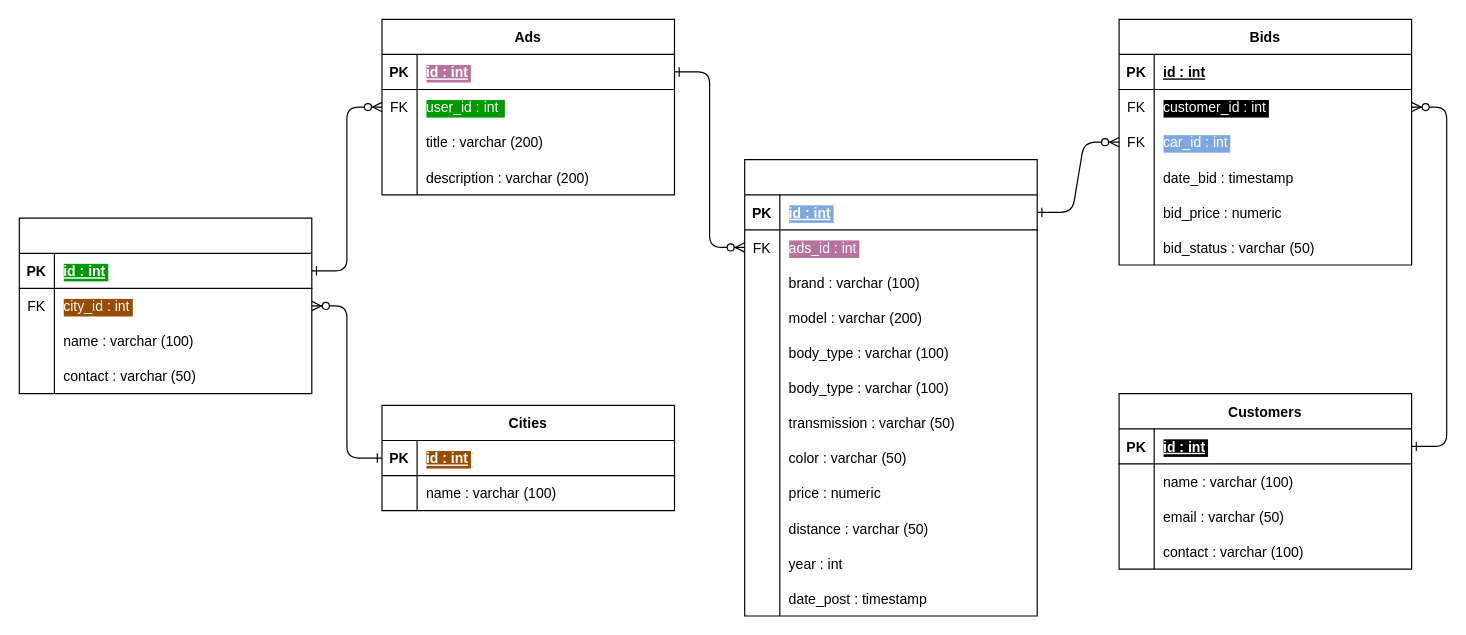
This 1466x635 diagram has some shape labels left out. The shapes that lost their labels are listed below. From the top down, each one's box as (x1, y1, x2, y2) in pixels, then its label:
(18, 217, 312, 394): Users
(744, 159, 1037, 616): Cars
